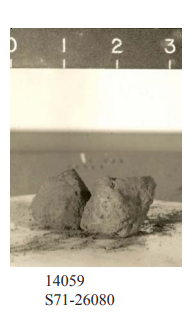Breccia: (32, 151, 158, 239)
